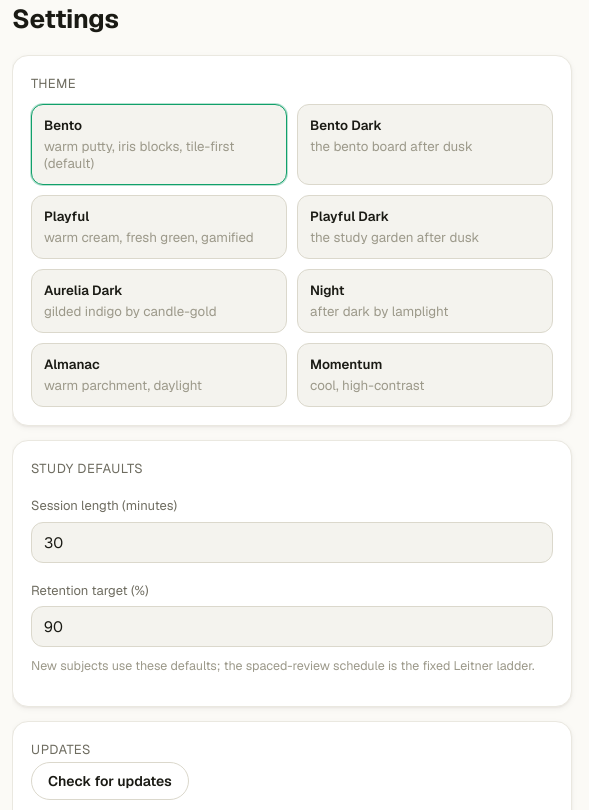
it: Settings — updates › offers Install & restart when an update is available
Click the button with test id "check-updates". click: (110, 781)
box: x1=31 y1=762 x2=189 y2=800
(page scrolled)
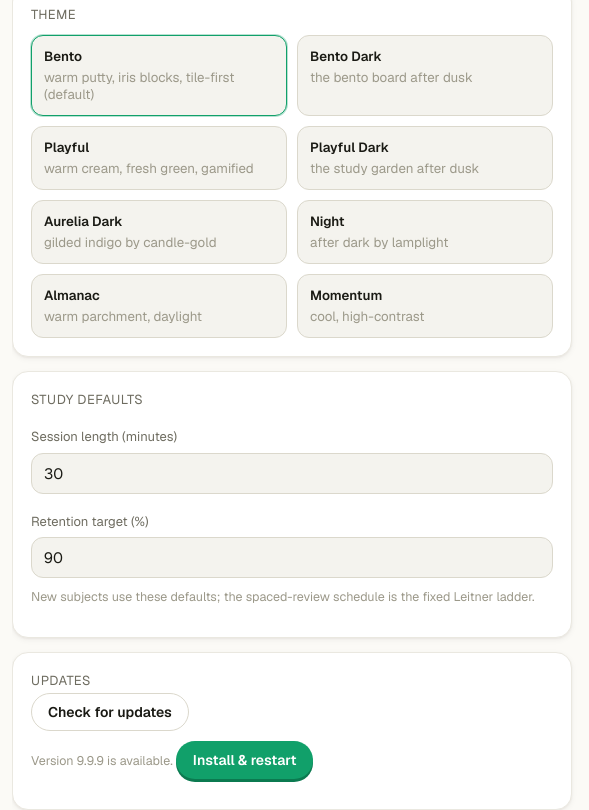
Check: the button with test id "install-update" is shown, box x1=176 y1=741 x2=313 y2=779
Check: the text "Version 9.9.9 is available. Install & restart" is shown, box x1=31 y1=741 x2=313 y2=779
